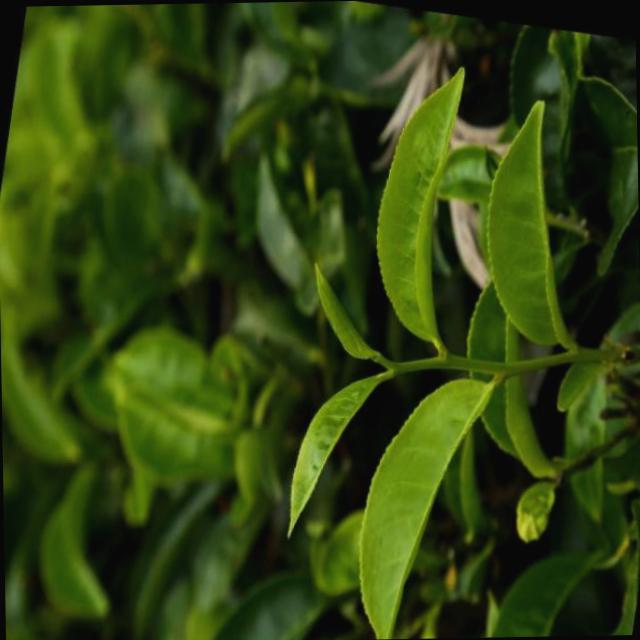Stem: (444, 351, 486, 371)
